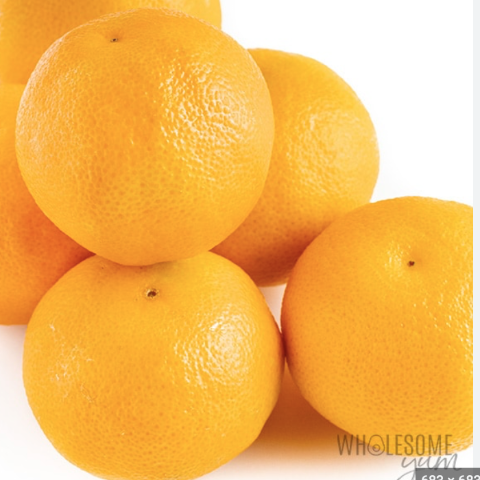orange: (8, 241, 324, 475), (5, 10, 292, 266), (277, 155, 479, 456)
